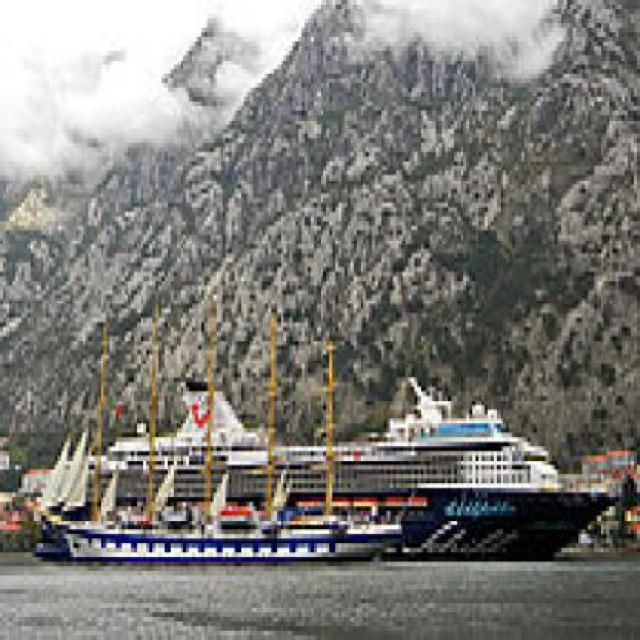cruise: (98, 397, 626, 563)
